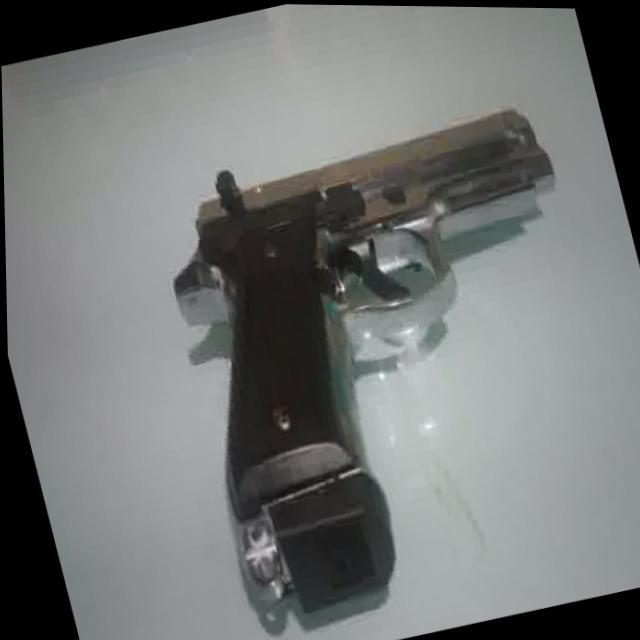weapon: (139, 90, 640, 622)
